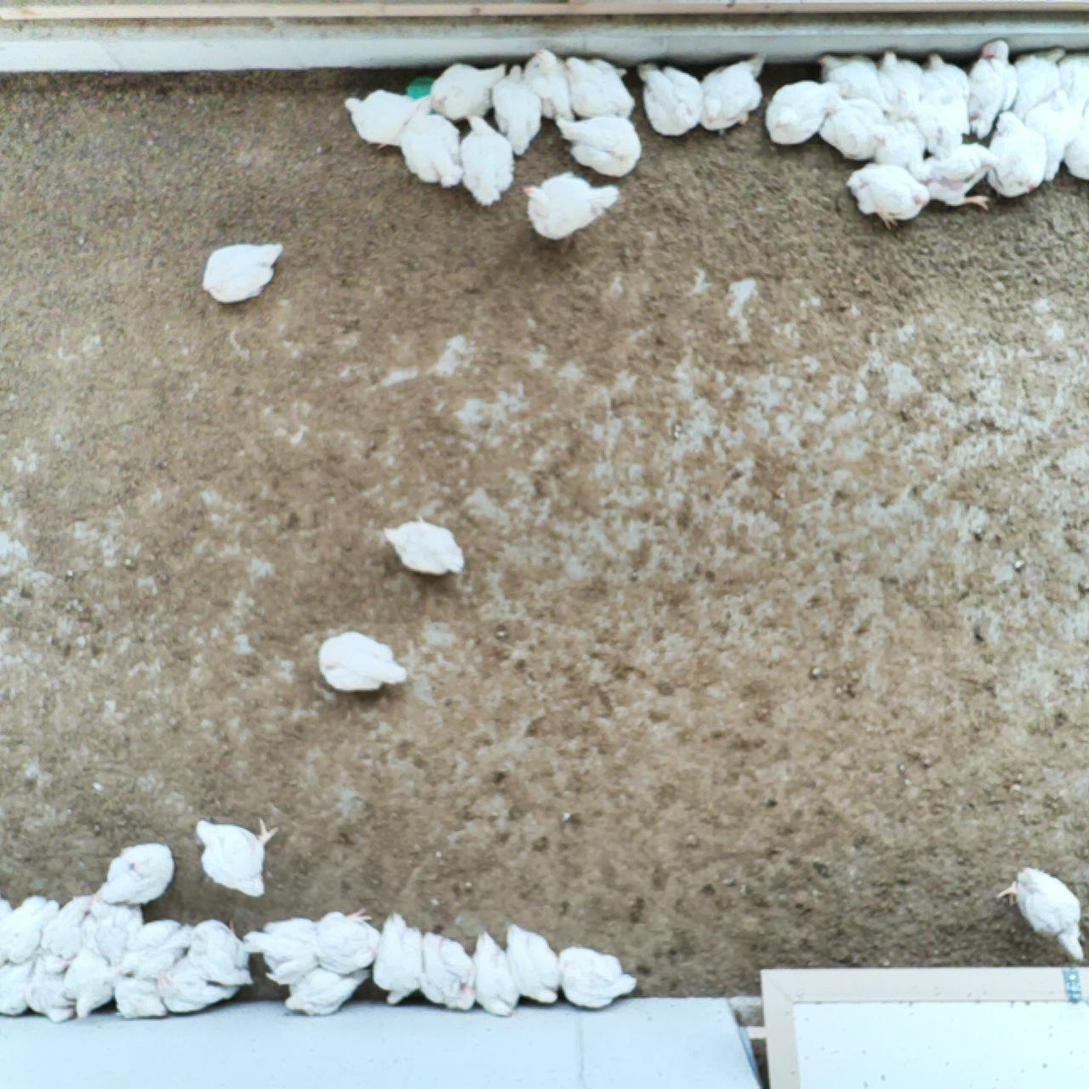chicken: (997, 865, 1085, 964), (195, 816, 279, 898), (524, 173, 619, 240), (342, 88, 435, 151), (316, 630, 408, 693), (369, 912, 433, 1002), (917, 147, 1000, 216), (890, 87, 968, 160), (560, 944, 641, 1012), (459, 117, 517, 211), (201, 241, 284, 306), (89, 845, 177, 906), (416, 928, 477, 1016), (850, 163, 930, 230), (699, 56, 771, 130), (987, 112, 1049, 197), (814, 49, 895, 113), (558, 114, 643, 174), (465, 932, 522, 1021), (247, 917, 326, 981), (120, 918, 199, 980), (506, 925, 564, 1009), (1024, 89, 1080, 175), (385, 518, 468, 576), (187, 922, 258, 988), (404, 114, 463, 193), (282, 966, 373, 1017), (0, 894, 66, 964), (523, 46, 578, 129), (564, 56, 635, 120), (640, 65, 703, 137), (306, 907, 382, 966), (767, 81, 834, 147), (427, 62, 507, 117), (491, 65, 541, 153), (956, 51, 1008, 134), (824, 97, 890, 162), (1006, 43, 1069, 111), (161, 962, 238, 1016), (42, 895, 96, 970), (26, 953, 80, 1026), (915, 50, 974, 116), (65, 947, 115, 1022), (870, 115, 929, 172), (82, 895, 128, 968), (980, 37, 1022, 115), (111, 973, 173, 1023), (871, 50, 922, 108), (103, 902, 148, 964), (0, 958, 38, 1016), (1064, 106, 1089, 182), (1061, 47, 1089, 112), (0, 899, 17, 922)
